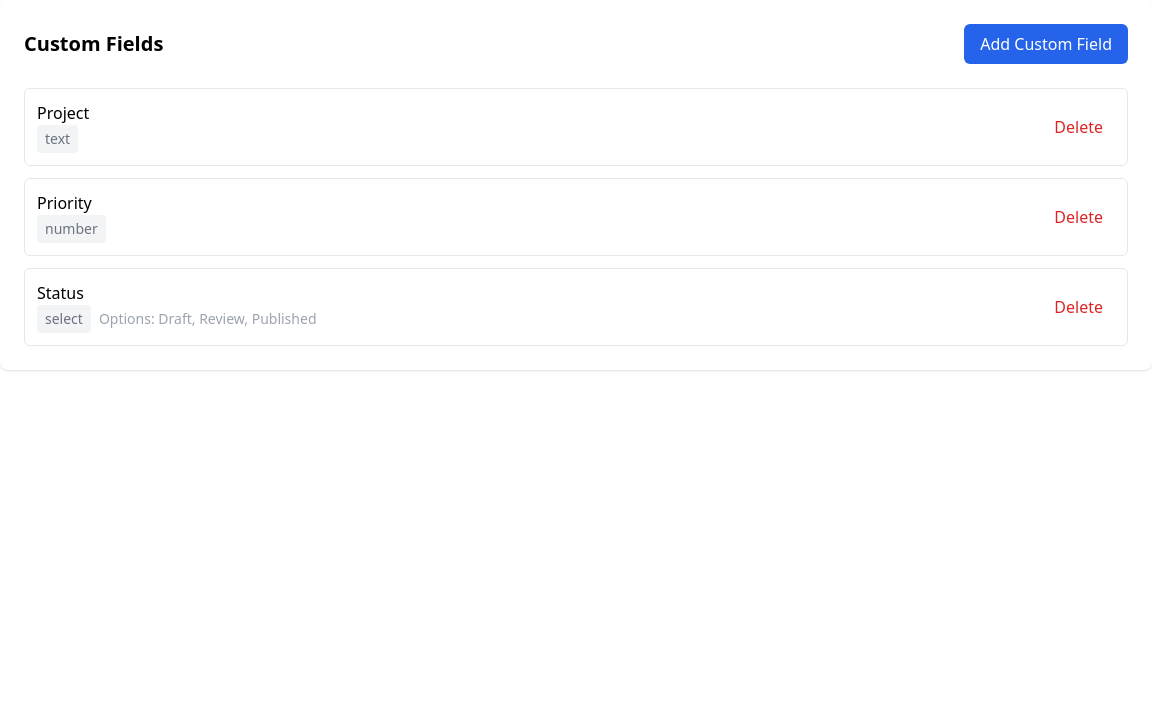
Test: FieldManager › prevents duplicate field names
The image size is (1152, 720).
# Open dialog
Click the button "Add Custom Field" at (1046, 44), box [964,24,1128,64]
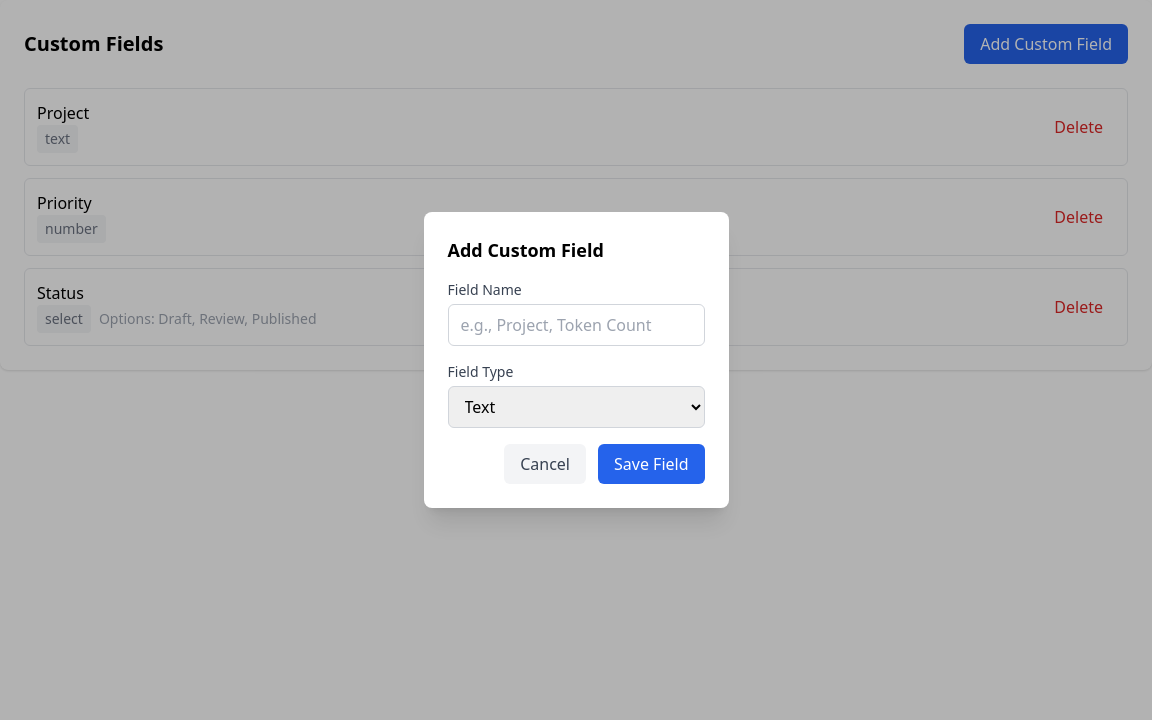
# Try to add existing field name
Type "Project" into the field labelled "Field Name" at (576, 325), box [448,304,704,346]
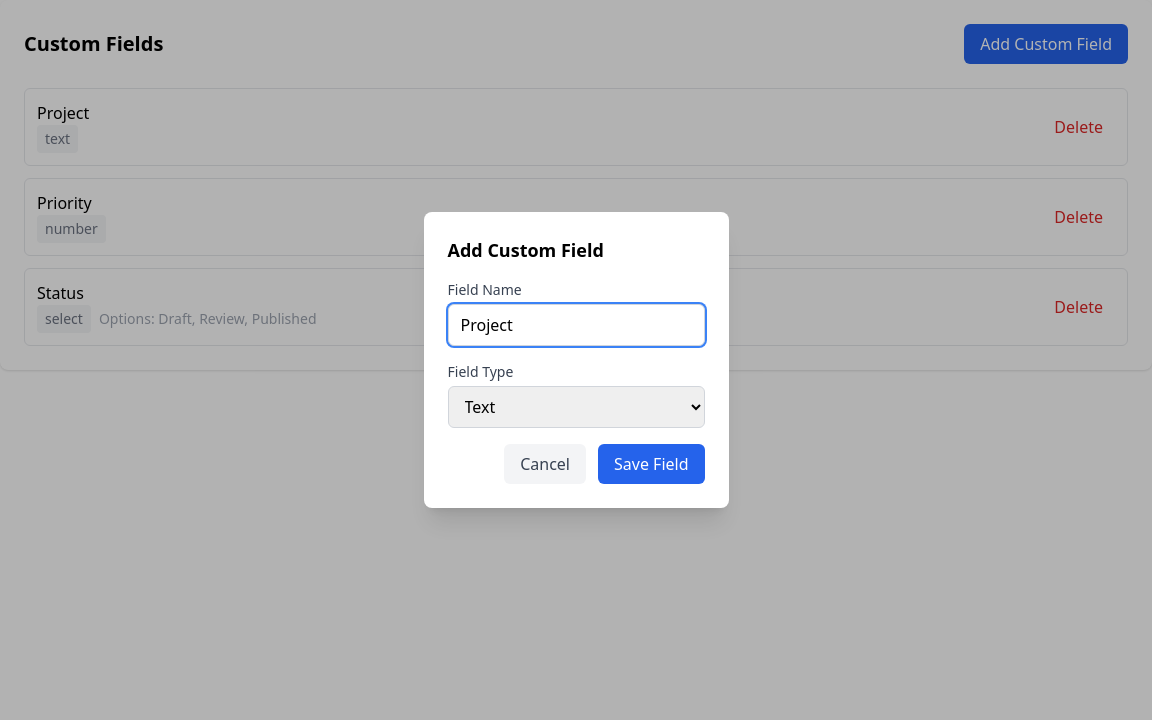
Click the button "Save Field" at (651, 464), box [598,444,704,484]
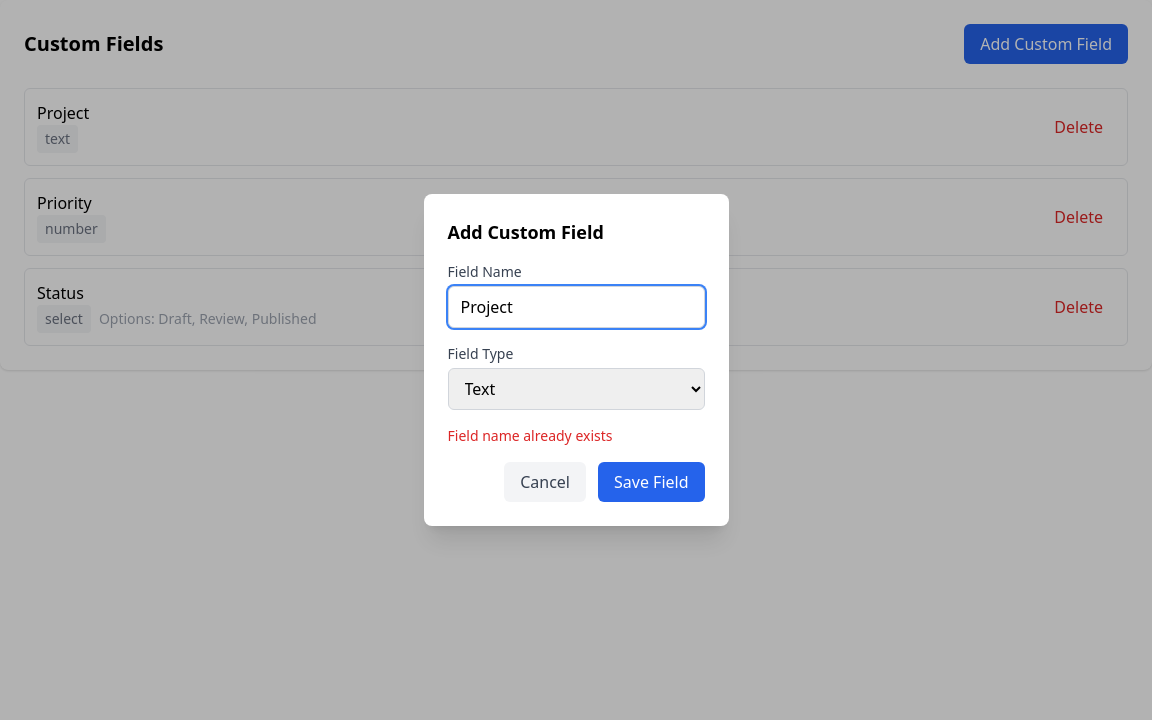
Now the text "Field name already exists" is shown, box [448,426,612,445]
